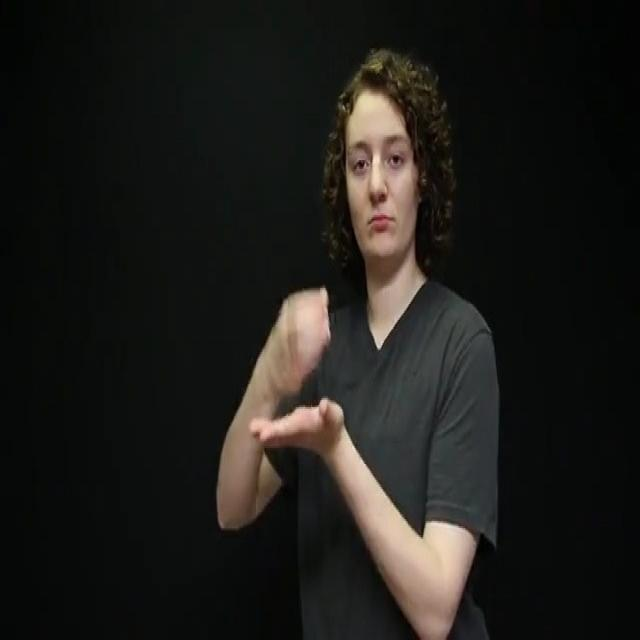cup: (235, 266, 358, 484)
